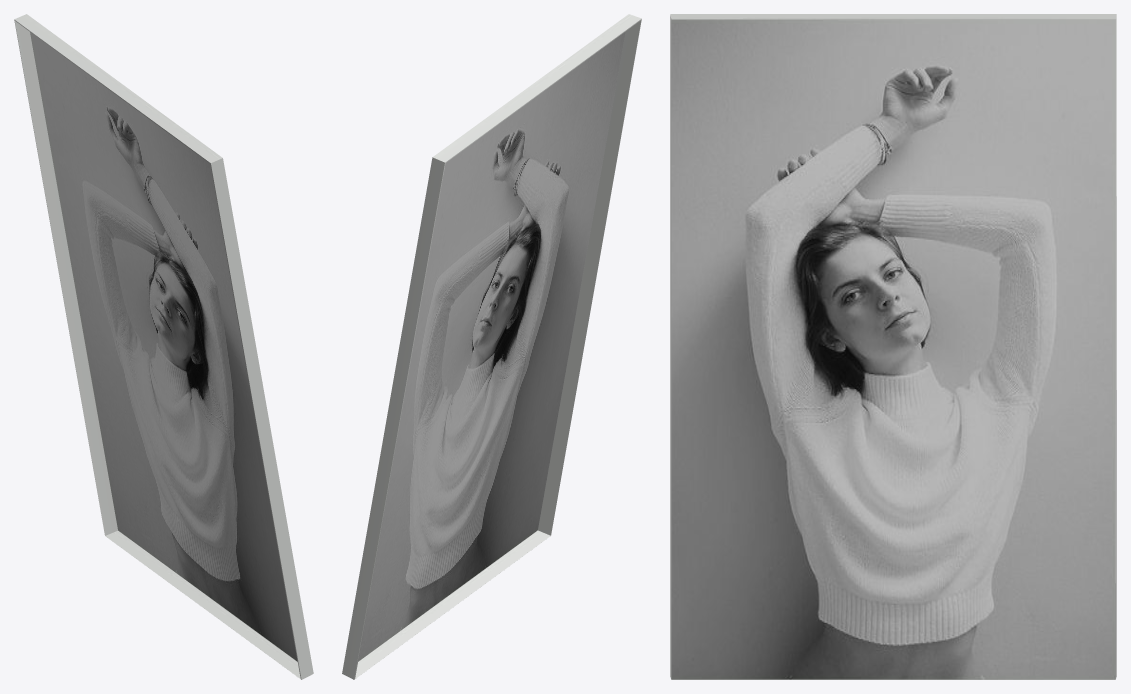
Rendered from decoration0003.obj.
3 renders of one model, left to right at view 1: azimuth 30°, elevation 25°; view 2: azimuth 150°, elevation 25°; view 3: azimuth 270°, elevation 25°, orthographic. The views are drawn at different scales.
Size of the model in its own units: 0.238 by 1.19 by 0.784.
1 material, 1 textured.
